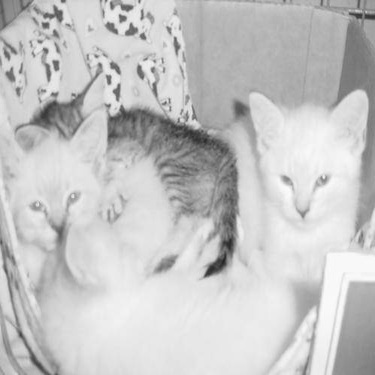cat: (1, 104, 298, 372), (15, 70, 240, 281), (218, 89, 370, 283)
